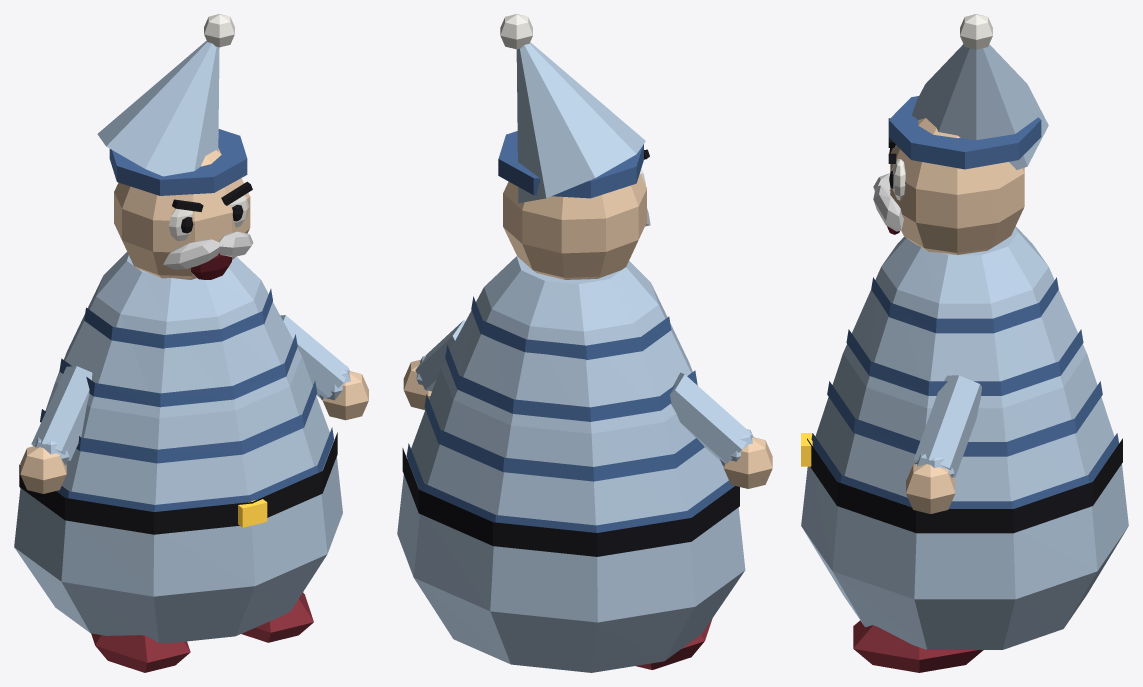
Rendered from npc_comisario_pijama.glb.
The picture shows the model from 3 angles, left to right: view 1: azimuth 30°, elevation 25°; view 2: azimuth 150°, elevation 25°; view 3: azimuth 270°, elevation 25°; orthographic projection. The views are drawn at different scales.
Visible parts, largest first — view 1: body_pajama, body_pajama_stripe, cap_pajama, head_skin_crema, body_black, arms_pajama, legs_slippers_comisario, cap_pajama_stripe, arms_skin_crema, face_gray, face_black, cap_white (+3 smaller); view 2: body_pajama, body_pajama_stripe, cap_pajama, head_skin_crema, body_black, arms_pajama, cap_pajama_stripe, arms_skin_crema, cap_white, legs_slippers_comisario; view 3: body_pajama, body_pajama_stripe, head_skin_crema, cap_pajama, body_black, cap_pajama_stripe, arms_pajama, legs_slippers_comisario, arms_skin_crema, face_gray, cap_white.
Boxes of the visible parts, <box> form: body_pajama: <box>14,252,342,643</box>; body_pajama_stripe: <box>40,289,334,511</box>; cap_pajama: <box>97,40,219,176</box>; head_skin_crema: <box>114,148,250,279</box>; body_black: <box>19,432,337,534</box>; arms_pajama: <box>31,315,350,465</box>; legs_slippers_comisario: <box>91,592,313,672</box>; cap_pajama_stripe: <box>109,129,247,195</box>; arms_skin_crema: <box>20,371,368,493</box>; face_gray: <box>163,231,253,269</box>; face_black: <box>172,181,252,233</box>; cap_white: <box>204,14,234,47</box>; body_pajama: <box>397,256,745,672</box>; body_pajama_stripe: <box>406,296,734,532</box>; cap_pajama: <box>516,42,645,203</box>; head_skin_crema: <box>503,173,646,279</box>; body_black: <box>402,448,739,556</box>; arms_pajama: <box>415,320,753,465</box>; cap_pajama_stripe: <box>498,131,643,198</box>; arms_skin_crema: <box>403,359,772,488</box>; cap_white: <box>500,14,532,49</box>; legs_slippers_comisario: <box>636,618,712,669</box>; body_pajama: <box>801,226,1128,649</box>; body_pajama_stripe: <box>811,277,1118,508</box>; head_skin_crema: <box>890,118,1024,254</box>; cap_pajama: <box>912,44,1048,169</box>; body_black: <box>807,438,1122,533</box>; cap_pajama_stripe: <box>888,96,1041,169</box>; arms_pajama: <box>913,375,981,477</box>; legs_slippers_comisario: <box>853,620,983,672</box>; arms_skin_crema: <box>906,464,955,513</box>; face_gray: <box>873,173,903,231</box>; cap_white: <box>960,14,992,49</box>.
Size of the model in its own units: 1.13 by 1.86 by 0.86.
